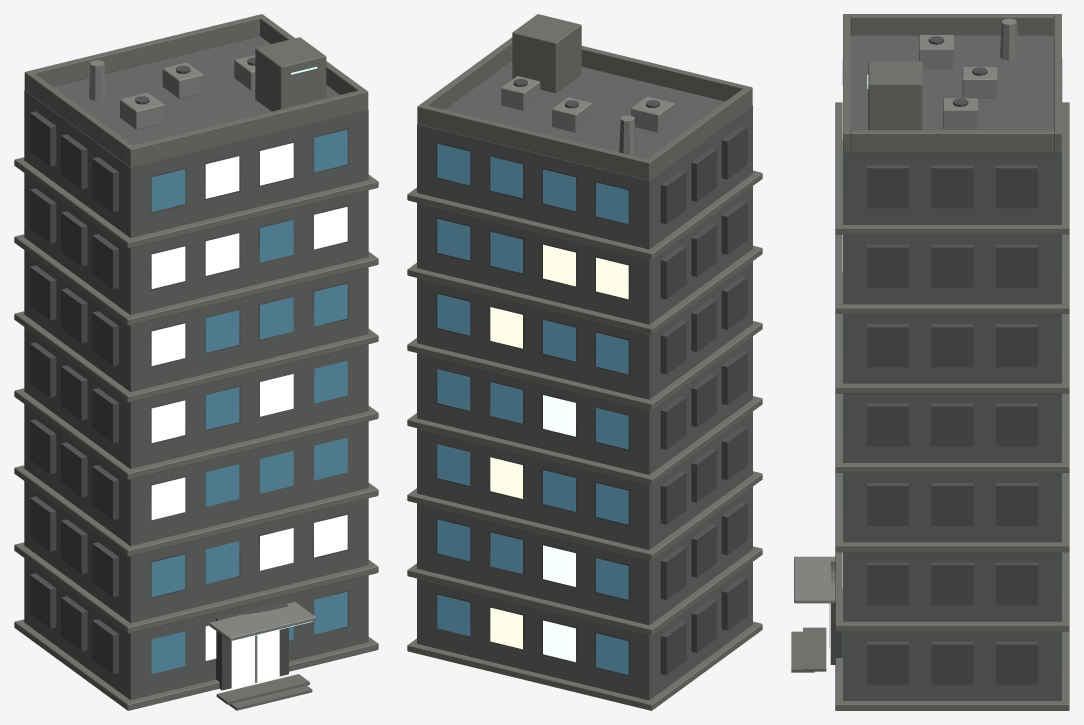
File: office_block_e.glb
The picture shows the model from 3 angles, left to right: view 1: azimuth 30°, elevation 25°; view 2: azimuth 150°, elevation 25°; view 3: azimuth 270°, elevation 25°; orthographic projection. The views are drawn at different scales.
Visible parts, largest first — view 1: office_block_e_Graphite@utility, office_block_e_Concrete@utility, office_block_e_DarkAlloy@utility, office_block_e_BlackGlass, office_block_e_WarmGlass, office_block_e_Steel@utility, office_block_e_CoolGlass; view 2: office_block_e_Graphite@utility, office_block_e_Concrete@utility, office_block_e_DarkAlloy@utility, office_block_e_BlackGlass, office_block_e_WarmGlass, office_block_e_Steel@utility, office_block_e_CoolGlass; view 3: office_block_e_Graphite@utility, office_block_e_Concrete@utility, office_block_e_DarkAlloy@utility, office_block_e_Steel@utility, office_block_e_BlackGlass.
Boxes of the visible parts, x1,y1,x2,y2 form: office_block_e_Graphite@utility: (24,36,368,700); office_block_e_Concrete@utility: (14,14,378,710); office_block_e_DarkAlloy@utility: (30,57,348,690); office_block_e_BlackGlass: (151,129,347,673); office_block_e_WarmGlass: (151,143,347,688); office_block_e_Steel@utility: (88,55,316,682); office_block_e_CoolGlass: (151,206,347,660); office_block_e_Graphite@utility: (417,61,752,700); office_block_e_Concrete@utility: (407,14,762,710); office_block_e_DarkAlloy@utility: (436,79,747,676); office_block_e_BlackGlass: (437,143,628,674); office_block_e_WarmGlass: (490,244,628,649); office_block_e_Steel@utility: (501,76,674,154); office_block_e_CoolGlass: (543,395,575,662); office_block_e_Graphite@utility: (843,35,1061,700); office_block_e_Concrete@utility: (791,14,1069,710); office_block_e_DarkAlloy@utility: (830,36,1037,684); office_block_e_Steel@utility: (794,18,1018,648); office_block_e_BlackGlass: (842,58,1062,668).
Bounding box in the file's own units: 11.6 × 26.33 × 10.8.
